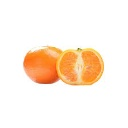orange: (21, 43, 66, 85)
